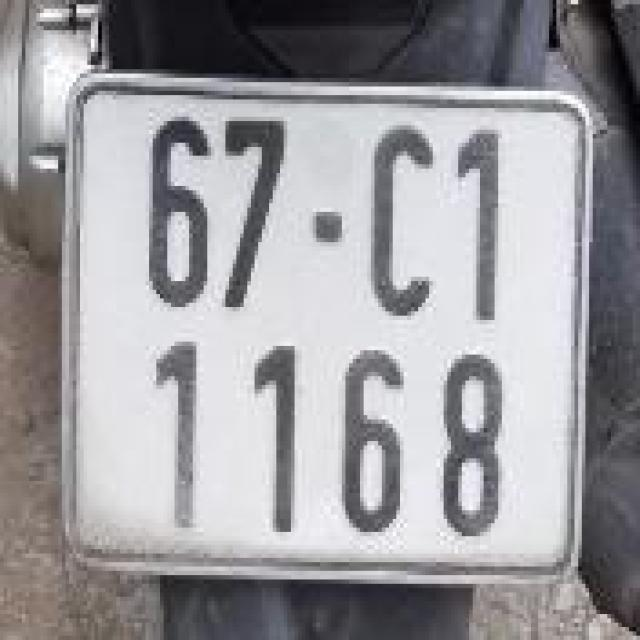1: (236, 333, 309, 549), (144, 322, 209, 547), (449, 115, 504, 348)
6: (331, 318, 407, 551), (136, 112, 220, 316)
7: (214, 106, 294, 322)
8: (434, 346, 511, 562)
C: (358, 106, 442, 322)
